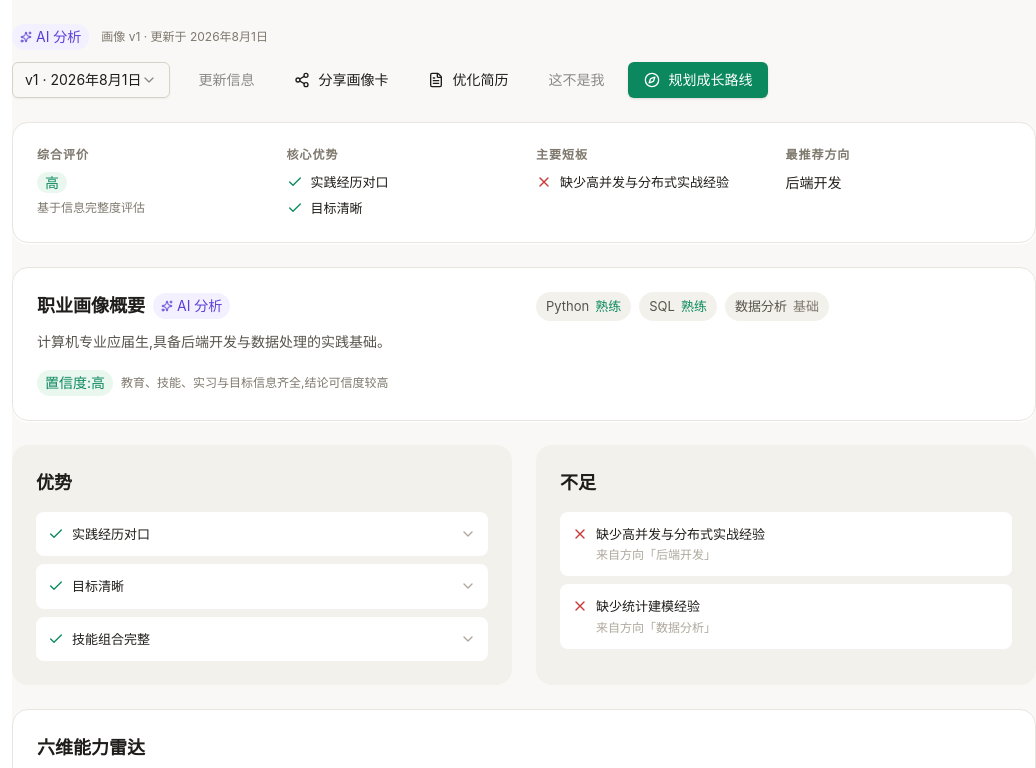
ProfileResult › 多版本:切换后按版本渲染内容
The image size is (1036, 768).
Click the dropdown named "查看历史版本": (91, 80) [12,62,170,98]
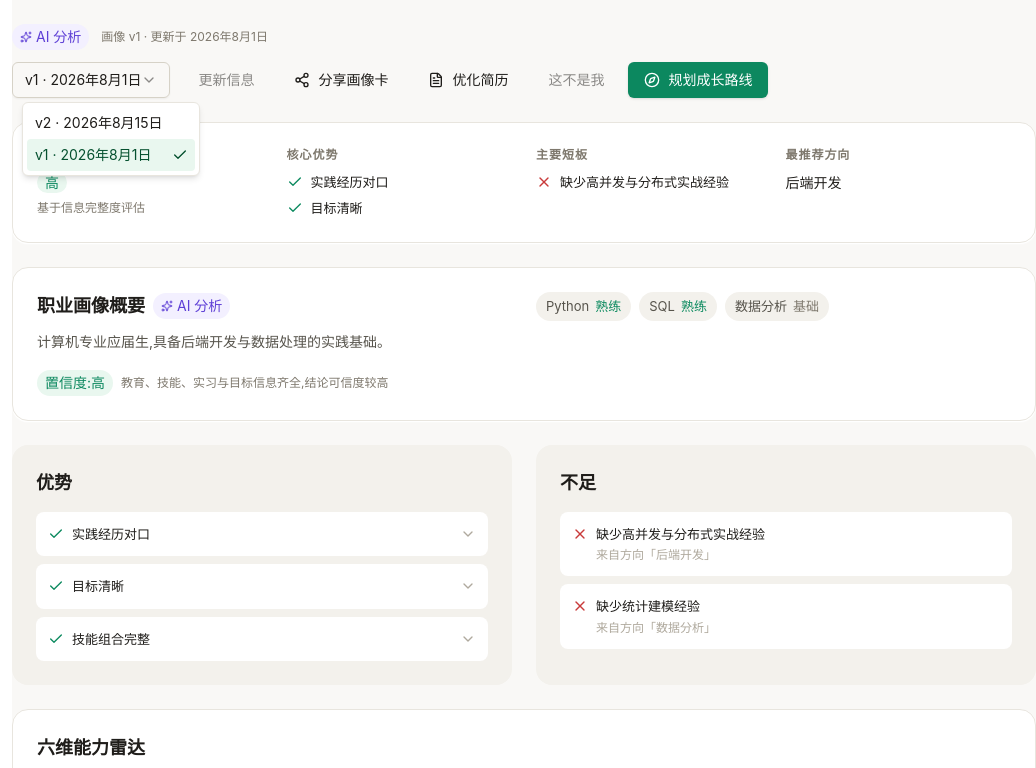
Click the option "v2 · 2026年8月15日": (99, 122) [35,114,163,131]
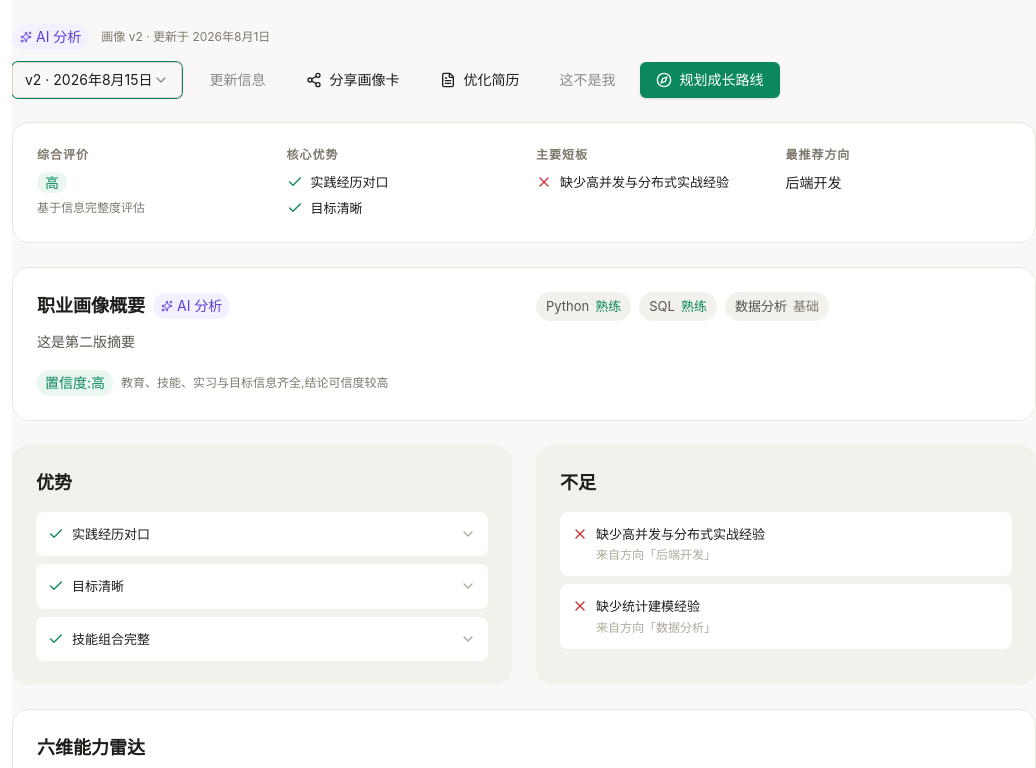
Expected: the text "这是第二版摘要" is shown, [37,334,135,350]
